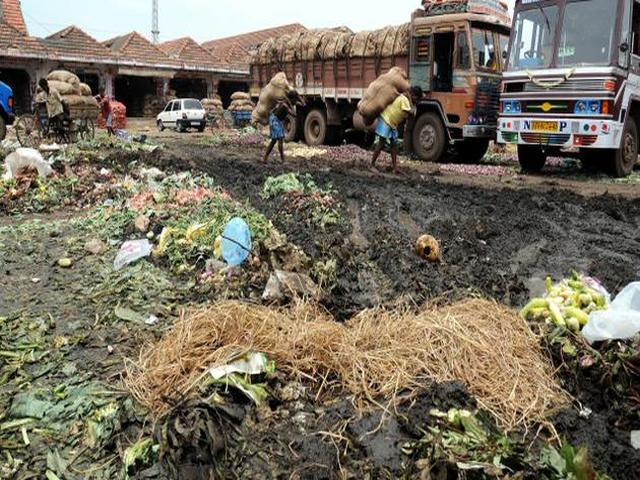garbage: (53, 181, 240, 436)
